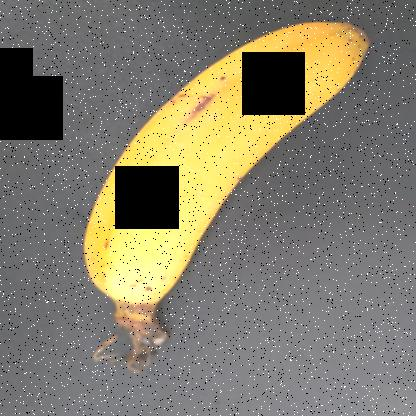freshripe: (63, 11, 372, 323)
